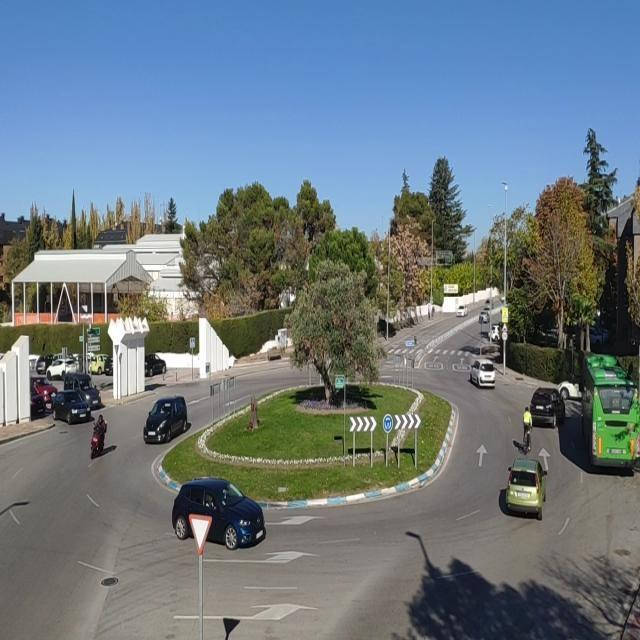Bus: (577, 354, 640, 476)
Car: (171, 478, 266, 550), (504, 458, 546, 518), (143, 396, 190, 444), (65, 372, 102, 410), (529, 388, 564, 427), (52, 391, 92, 424), (470, 358, 496, 388), (45, 358, 80, 380), (30, 378, 58, 403), (560, 375, 582, 402), (30, 380, 46, 416), (144, 354, 167, 376), (35, 354, 57, 375), (90, 354, 109, 375), (487, 324, 503, 342), (589, 326, 603, 346), (104, 356, 113, 376), (456, 305, 468, 317), (479, 312, 489, 324)
Cycle: (90, 423, 108, 459), (522, 420, 532, 454)
